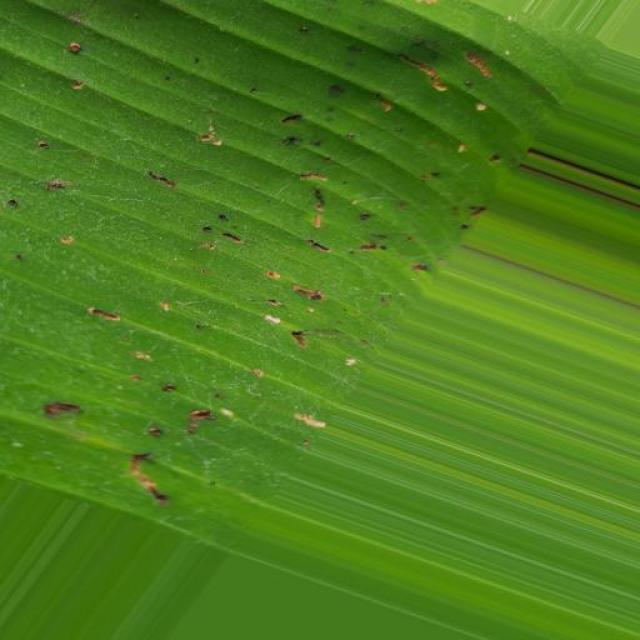Black_rot: (1, 0, 640, 520)
